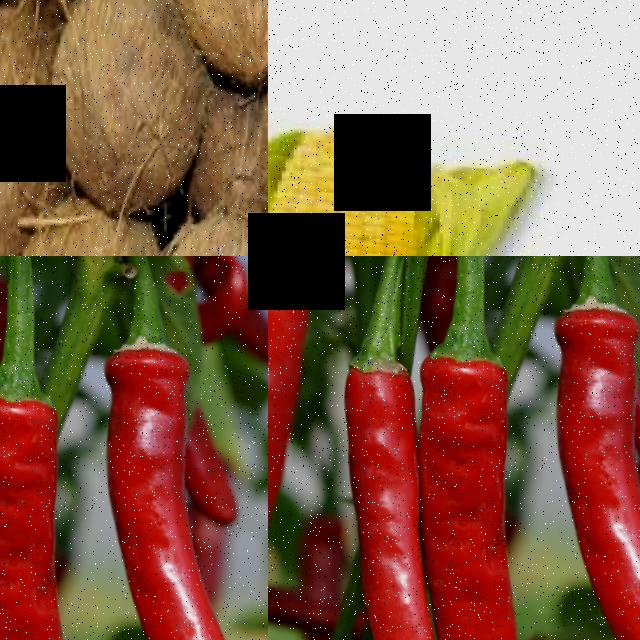chilli: (70, 327, 268, 640), (520, 287, 640, 640), (398, 329, 530, 640), (308, 340, 436, 640), (268, 256, 335, 640), (0, 369, 80, 640)
coconut: (36, 0, 205, 212), (0, 0, 55, 256), (164, 0, 268, 69)
corn: (268, 112, 436, 256)
